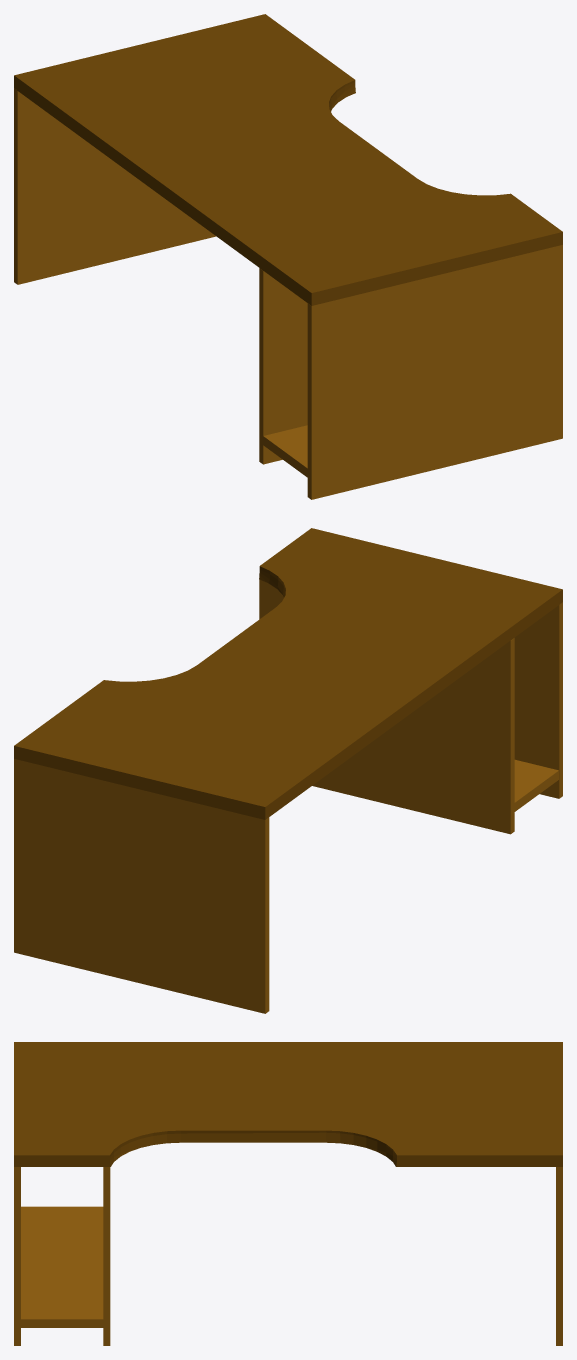
File: low_poly_table.fbx
3 views of the same model, one above another, from view 1: azimuth 30°, elevation 25°; view 2: azimuth 150°, elevation 25°; view 3: azimuth 270°, elevation 25° (orthographic). The views are drawn at different scales.
Parts seen in each view (by area): view 1: Объект_Куб_4; view 2: Объект_Куб_4; view 3: Объект_Куб_4.
Part boxes in pixels (x1,y1,x2,y2): Объект_Куб_4: (14,14,562,499); Объект_Куб_4: (14,528,562,1013); Объект_Куб_4: (14,1042,562,1345).
Size of the model in its own units: 271 by 213 by 556.
